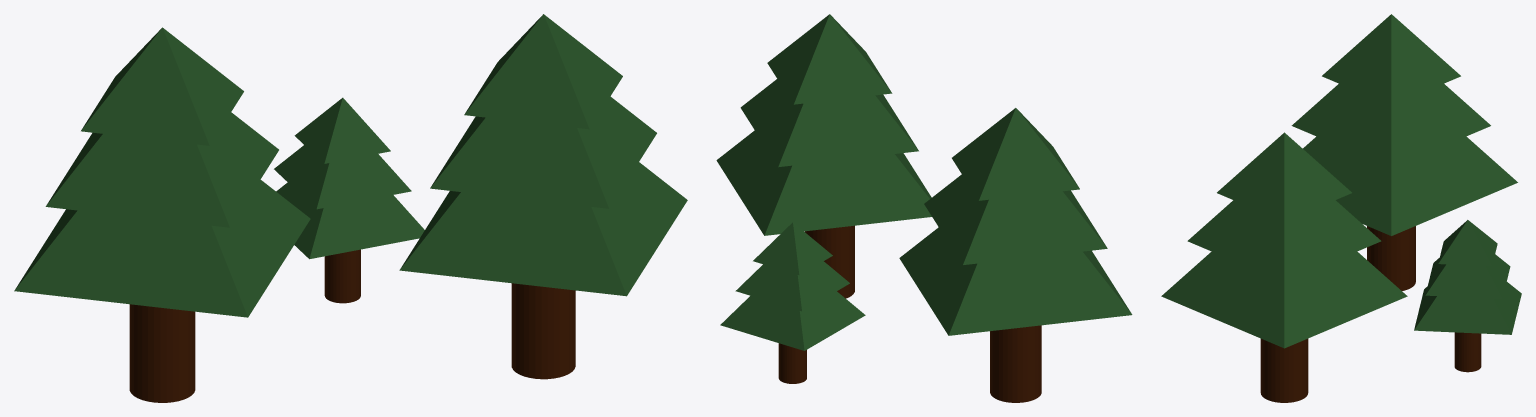
The model's file is TreesCombinedV3.fbx.
3 views of the same model, side by side, from view 1: azimuth 30°, elevation 25°; view 2: azimuth 150°, elevation 25°; view 3: azimuth 270°, elevation 25° (orthographic). The views are drawn at different scales.
Parts seen in each view (by area): view 1: Bot Branches.001; view 2: Bot Branches.001; view 3: Bot Branches.001.
Part boxes in pixels (x1,y1,x2,y2): Bot Branches.001: [14, 14, 687, 402]; Bot Branches.001: [716, 14, 1132, 402]; Bot Branches.001: [1161, 14, 1521, 402].
Bounding box in the file's own units: 10.3 × 5.94 × 7.22.
